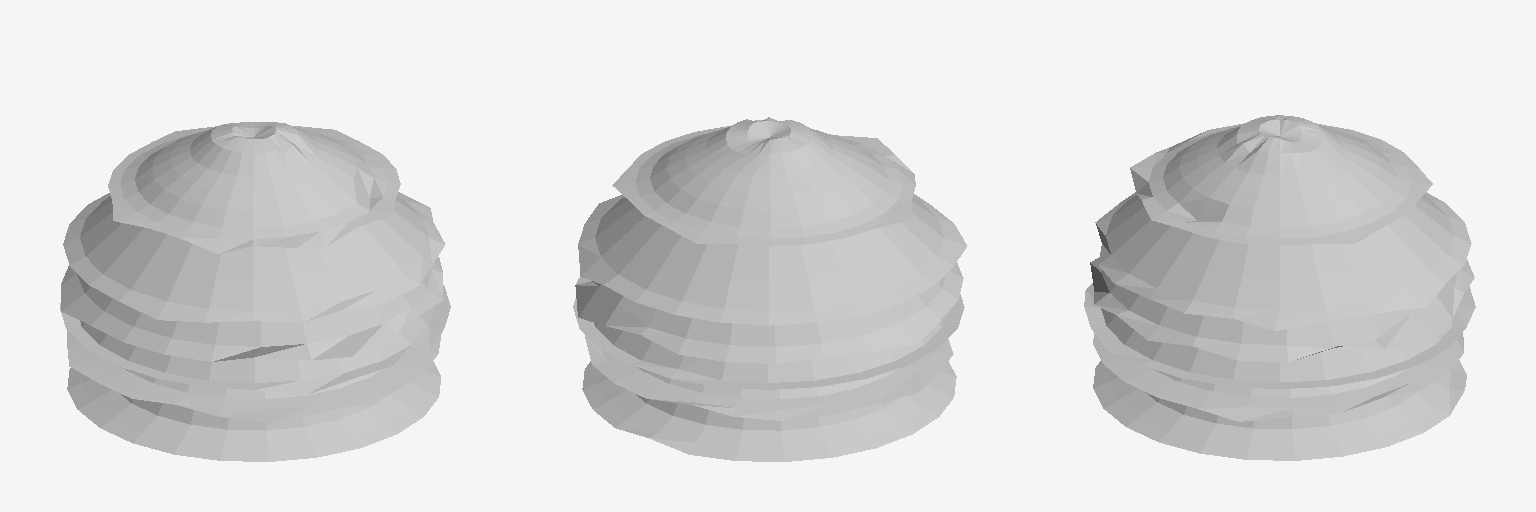
Rendered from Bush.obj.
3 renders of one model, left to right at view 1: azimuth 30°, elevation 25°; view 2: azimuth 150°, elevation 25°; view 3: azimuth 270°, elevation 25°, orthographic.
Size of the model in its own units: 1.83 by 1.29 by 1.81.